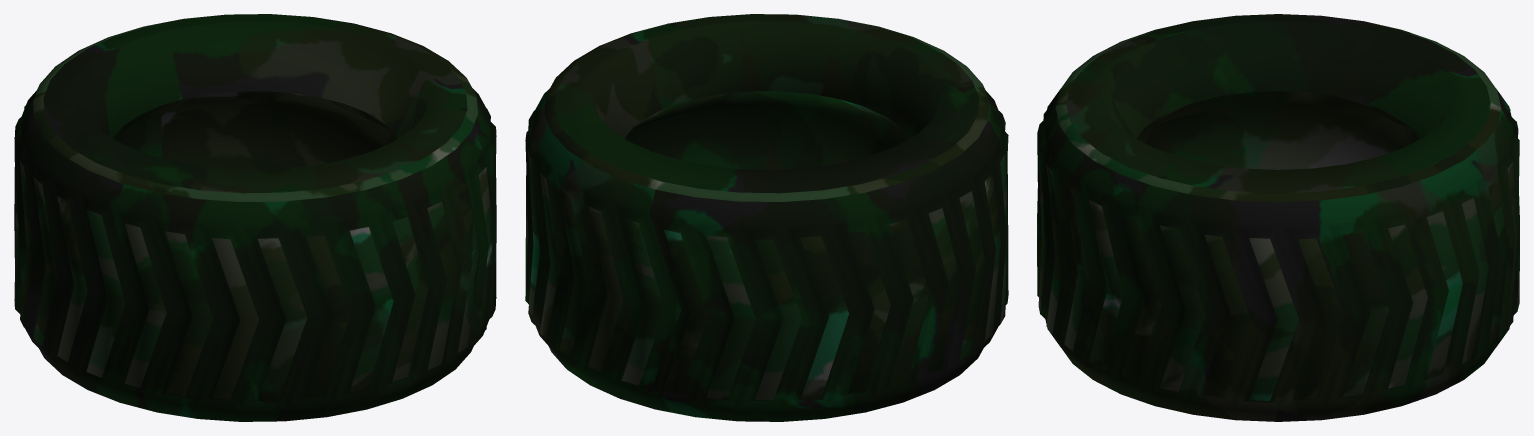
The model's file is TIRE_FINAL.obj.
The picture shows the model from 3 angles, left to right: view 1: azimuth 30°, elevation 25°; view 2: azimuth 150°, elevation 25°; view 3: azimuth 270°, elevation 25°; orthographic projection.
Parts seen in each view (by area): view 1: Cylinder; view 2: Cylinder; view 3: Cylinder.
Part boxes in pixels (left/top/right/bottom): Cylinder: left=14, top=14, right=496, bottom=421; Cylinder: left=525, top=14, right=1008, bottom=421; Cylinder: left=1037, top=14, right=1519, bottom=421.
Bounding box in the file's own units: 9.43 × 5.26 × 9.43.
1 material, 1 textured.
